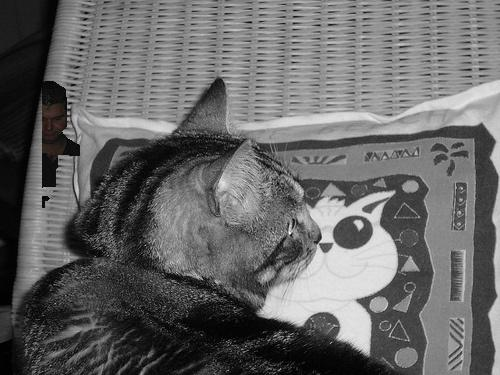tampered: (43, 81, 80, 208)
